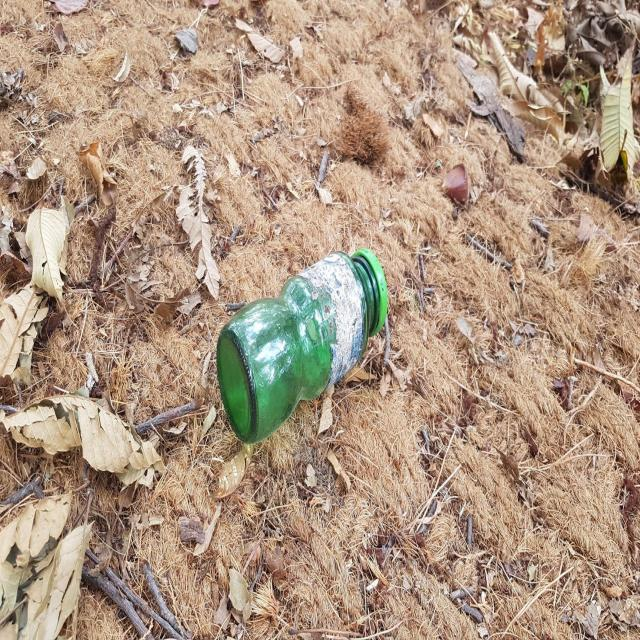glass: (216, 249, 388, 443)
